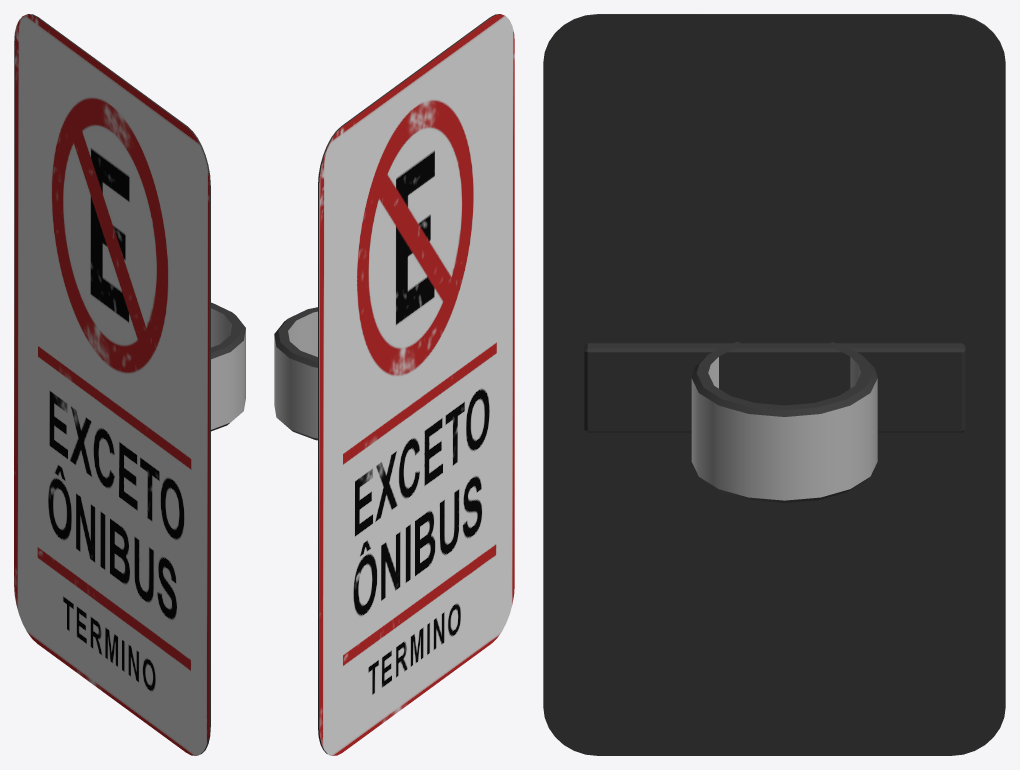
File: SM_TraficPlate_02.fbx
The picture shows the model from 3 angles, left to right: view 1: azimuth 30°, elevation 25°; view 2: azimuth 150°, elevation 25°; view 3: azimuth 270°, elevation 25°; orthographic projection. The views are drawn at different scales.
Parts seen in each view (by area): view 1: SM_TraficPlate_02_LOD0; view 2: SM_TraficPlate_02_LOD0; view 3: SM_TraficPlate_02_LOD0.
Part boxes in pixels (x1,y1,x2,y2): SM_TraficPlate_02_LOD0: [14, 14, 245, 755]; SM_TraficPlate_02_LOD0: [274, 14, 514, 755]; SM_TraficPlate_02_LOD0: [543, 14, 1005, 755].
Bounding box in the file's own units: 18.98 × 49.98 × 88.34.
